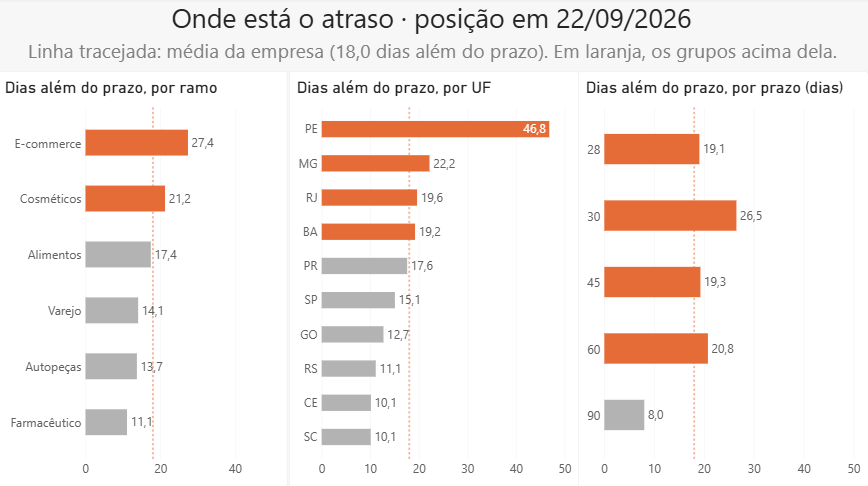

The dashboard page shown, as its layout file describes it:
{"tool":"powerbi","page":{"name":"Onde está o atraso","canvas":[1920,1080],"ordinal":1},"visuals":[{"type":"textbox","box":[0,4.4,1915.3,99.2],"z":0},{"type":"clusteredBarChart","title":"Dias além do prazo, por ramo","fields":{"Category":["kpis_por_ramo.ramo_descricao"],"Y":["Sum(kpis_por_ramo.dias_alem_prazo)"]},"box":[0,162.5,640,917.5],"z":1000},{"type":"clusteredBarChart","title":"Dias além do prazo, por UF","fields":{"Category":["kpis_por_uf.uf"],"Y":["Sum(kpis_por_uf.dias_alem_prazo)"]},"box":[642.5,162.5,640,917.5],"z":2000},{"type":"clusteredBarChart","title":"Dias além do prazo, por prazo (dias)","fields":{"Category":["kpis_por_prazo.prazo_dias"],"Y":["Sum(kpis_por_prazo.dias_alem_prazo)"]},"box":[1280,162.5,640,917.5],"z":3000},{"type":"textbox","box":[0,87.5,1920,75],"z":3001}]}

Visuals, with their boxes in screenshot pixels (x1, y1, x2, y2), scaled from the page's 1920x1080 canvas onto the 868x486 screenshot:
textbox: [0, 2, 866, 47]
"Dias além do prazo, por ramo" clusteredBarChart: [0, 73, 289, 485]
"Dias além do prazo, por UF" clusteredBarChart: [290, 73, 580, 485]
"Dias além do prazo, por prazo (dias)" clusteredBarChart: [579, 73, 867, 485]
textbox: [0, 39, 867, 73]
